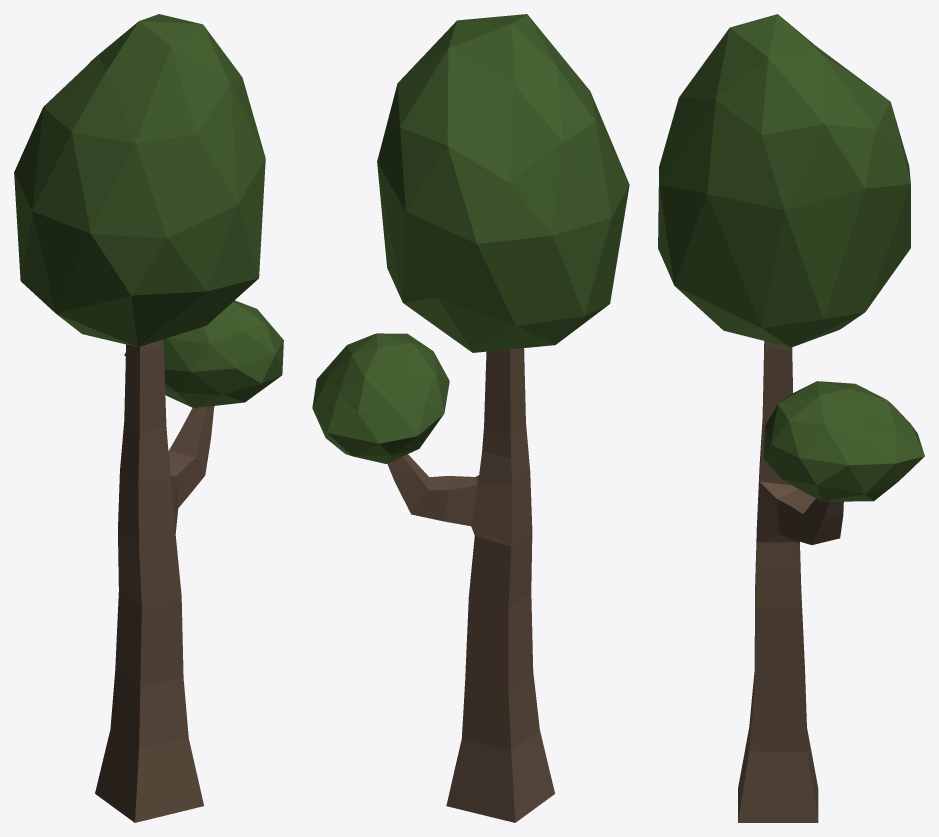
Rendered from SequoiaTree3.fbx.
3 views of the same model, side by side, from view 1: azimuth 30°, elevation 25°; view 2: azimuth 150°, elevation 25°; view 3: azimuth 270°, elevation 25° (orthographic).
Parts seen in each view (by area): view 1: SequoiaTree3Foliage, SequoiaTree3; view 2: SequoiaTree3Foliage, SequoiaTree3; view 3: SequoiaTree3Foliage, SequoiaTree3.
Boxes of the visible parts, x1=… form: SequoiaTree3Foliage: x1=14, y1=14, x2=283, y2=408; SequoiaTree3: x1=95, y1=339, x2=214, y2=822; SequoiaTree3Foliage: x1=312, y1=14, x2=629, y2=463; SequoiaTree3: x1=387, y1=348, x2=554, y2=822; SequoiaTree3Foliage: x1=658, y1=14, x2=924, y2=501; SequoiaTree3: x1=738, y1=341, x2=843, y2=822.
Bounding box in the file's own units: 4.77 × 13.5 × 4.15.
